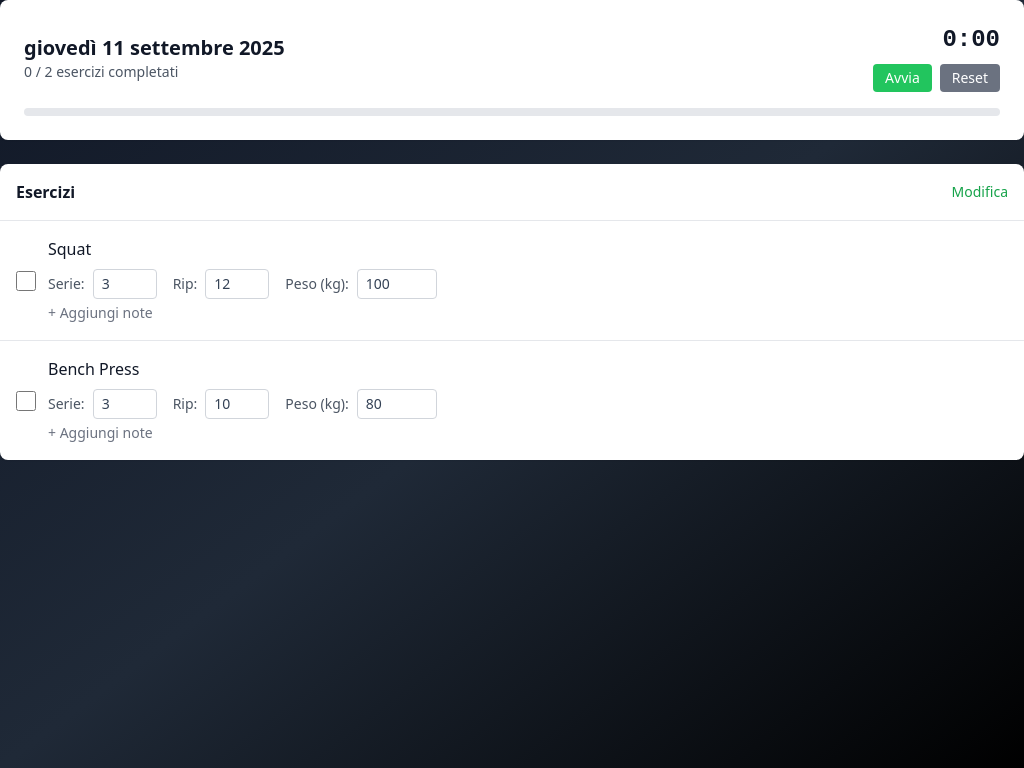
Test case: unit: WorkoutTracker Component › starts and stops timer correctly
This screenshot has width=1024, height=768.
Click the button "Avvia".
click(902, 78)  # box [873, 64, 932, 92]
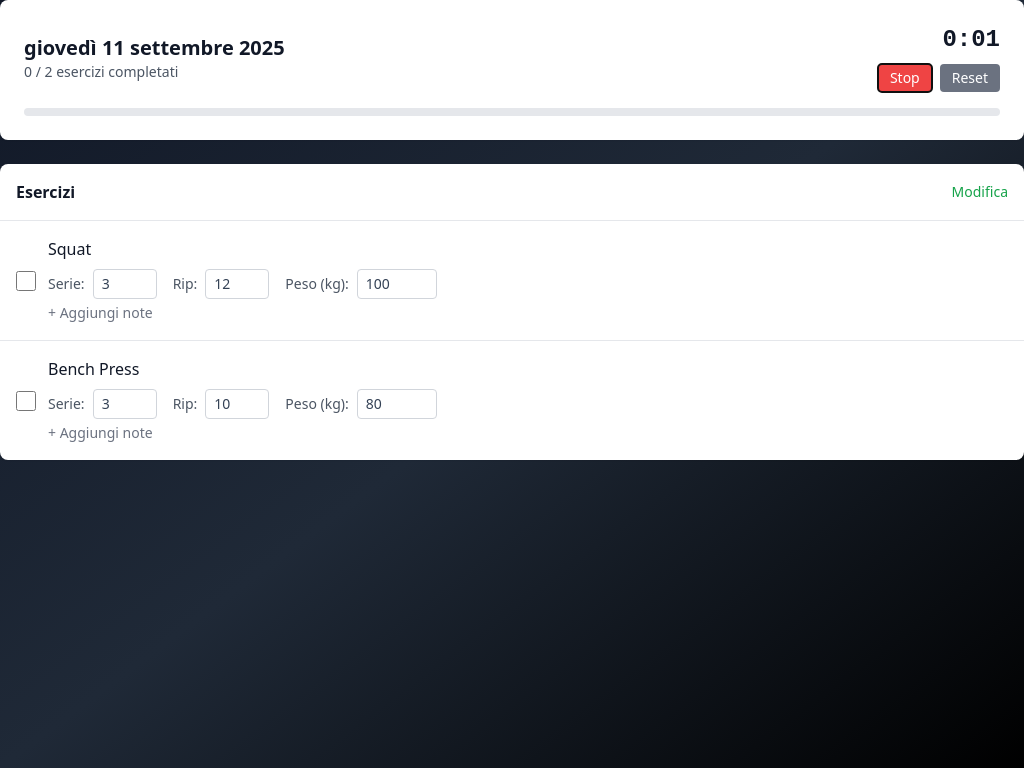
Check: the button "Stop" is shown, box [878, 64, 932, 92]
Check: the text "0:01" is shown, box [942, 26, 1000, 53]
